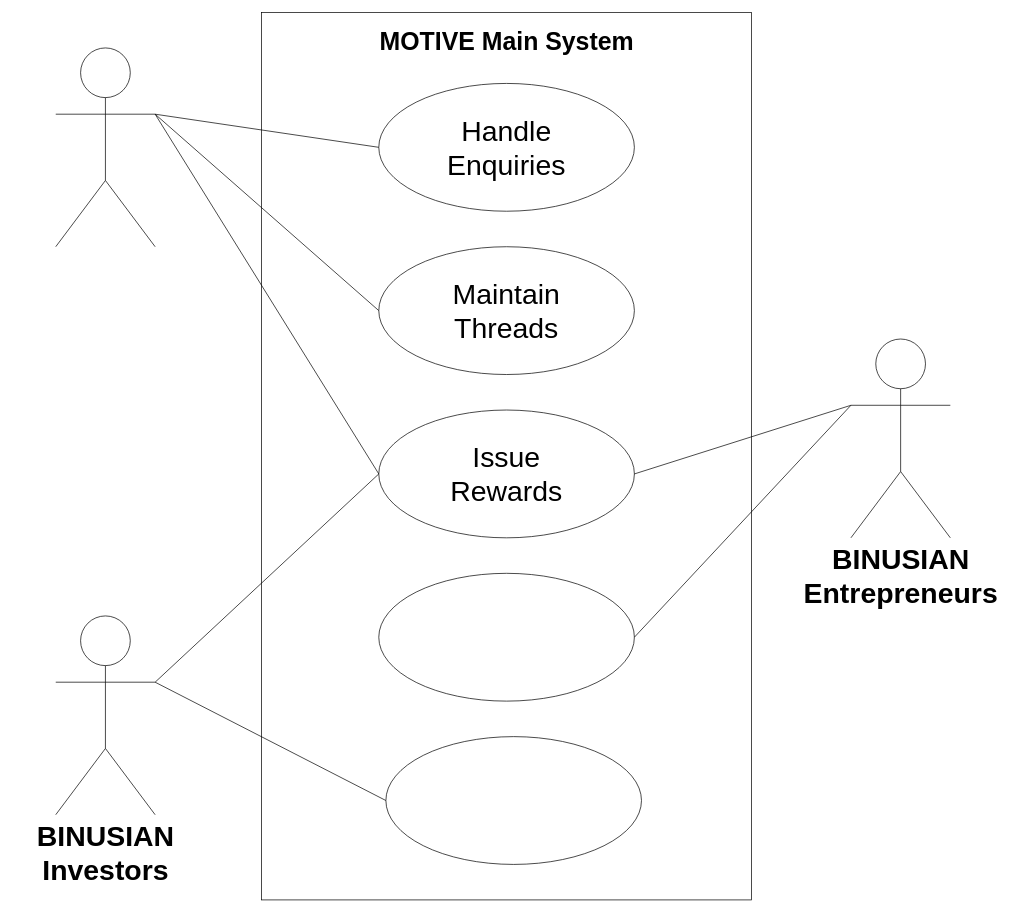
This 1010x912 diagram has some shape labels left out. The centre of each missing label's shape, as x and y in pixels:
"Invest" goes at point (513, 800).
"Platform Administrator" goes at point (105, 147).
"Post" goes at point (506, 637).
